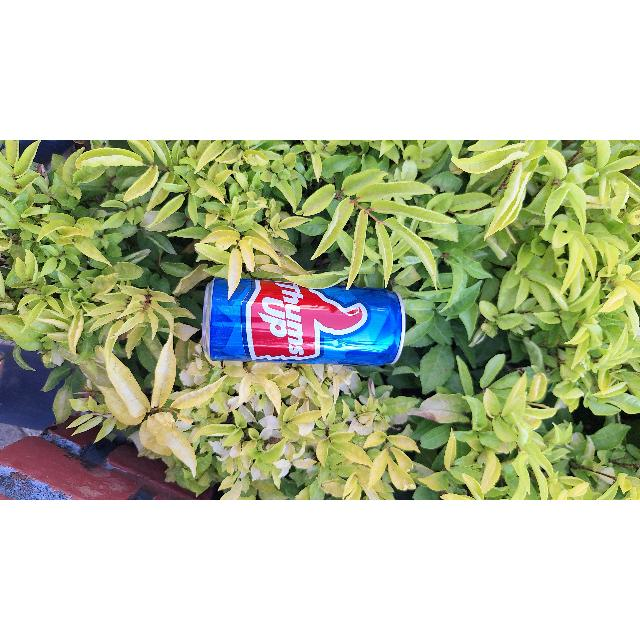Thums Up: (203, 281, 405, 364)
